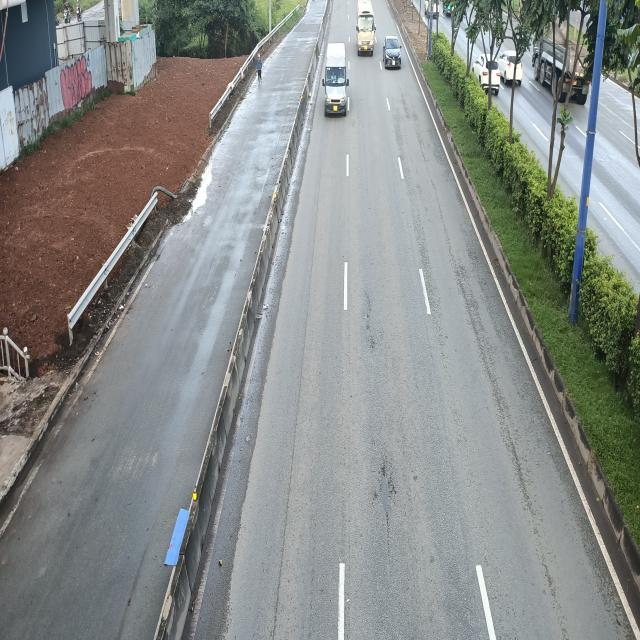car: (383, 36, 402, 70)
coach: (355, 0, 375, 55)
van: (325, 42, 353, 116)
